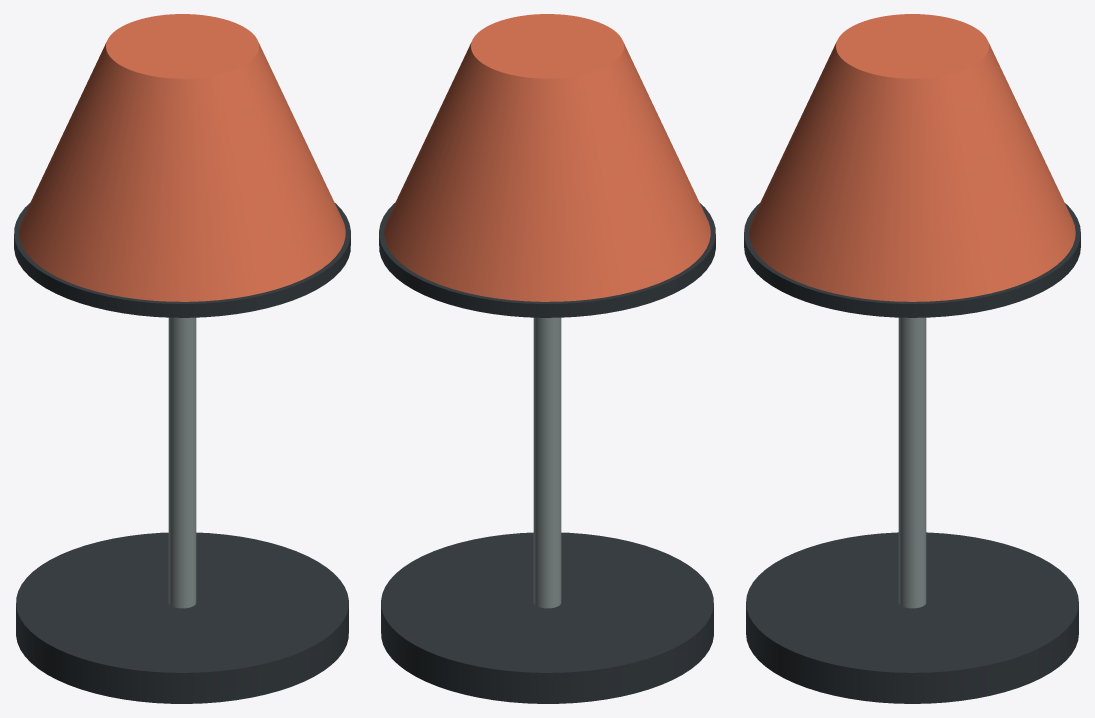
3 views of the same model, side by side, from view 1: azimuth 30°, elevation 25°; view 2: azimuth 150°, elevation 25°; view 3: azimuth 270°, elevation 25° (orthographic).
Visible parts, largest first — view 1: 灯罩, 圆形底座, 灯杆, 灯罩下沿; view 2: 灯罩, 圆形底座, 灯杆, 灯罩下沿; view 3: 灯罩, 圆形底座, 灯杆, 灯罩下沿.
Boxes of the visible parts, <box> form: 灯罩: <box>19,14,345,301</box>; 圆形底座: <box>16,532,348,703</box>; 灯杆: <box>168,317,196,608</box>; 灯罩下沿: <box>14,203,350,317</box>; 灯罩: <box>384,14,710,301</box>; 圆形底座: <box>381,532,713,703</box>; 灯杆: <box>533,317,561,608</box>; 灯罩下沿: <box>379,203,715,317</box>; 灯罩: <box>749,14,1075,301</box>; 圆形底座: <box>746,532,1078,703</box>; 灯杆: <box>898,317,926,608</box>; 灯罩下沿: <box>744,203,1080,317</box>.
Size of the model in its own units: 0.26 by 0.5 by 0.26.
